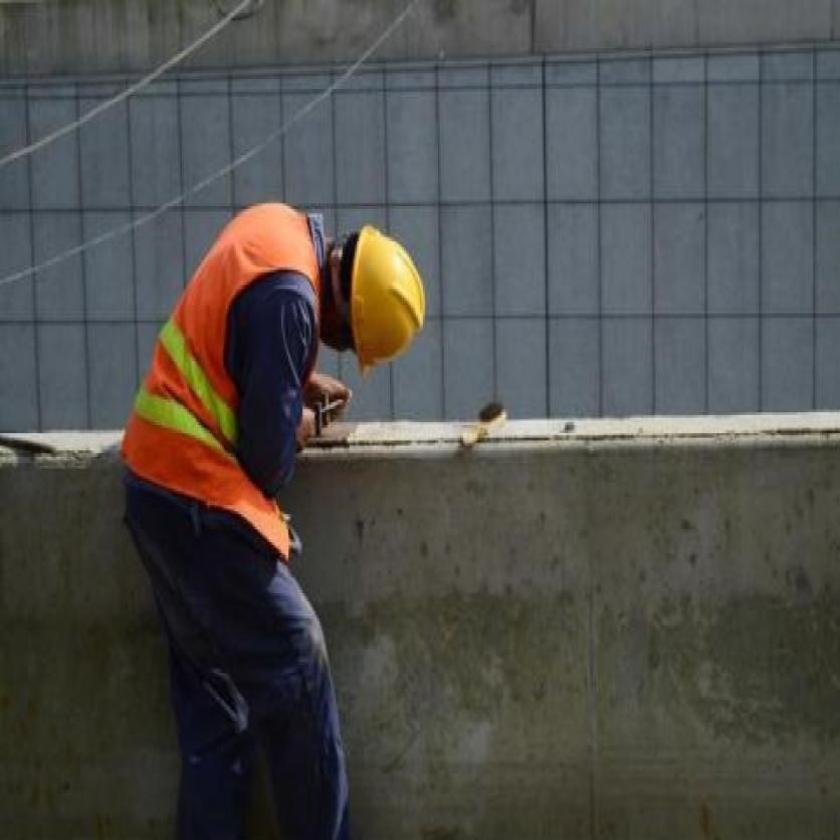Con_casco: (322, 222, 429, 366)
